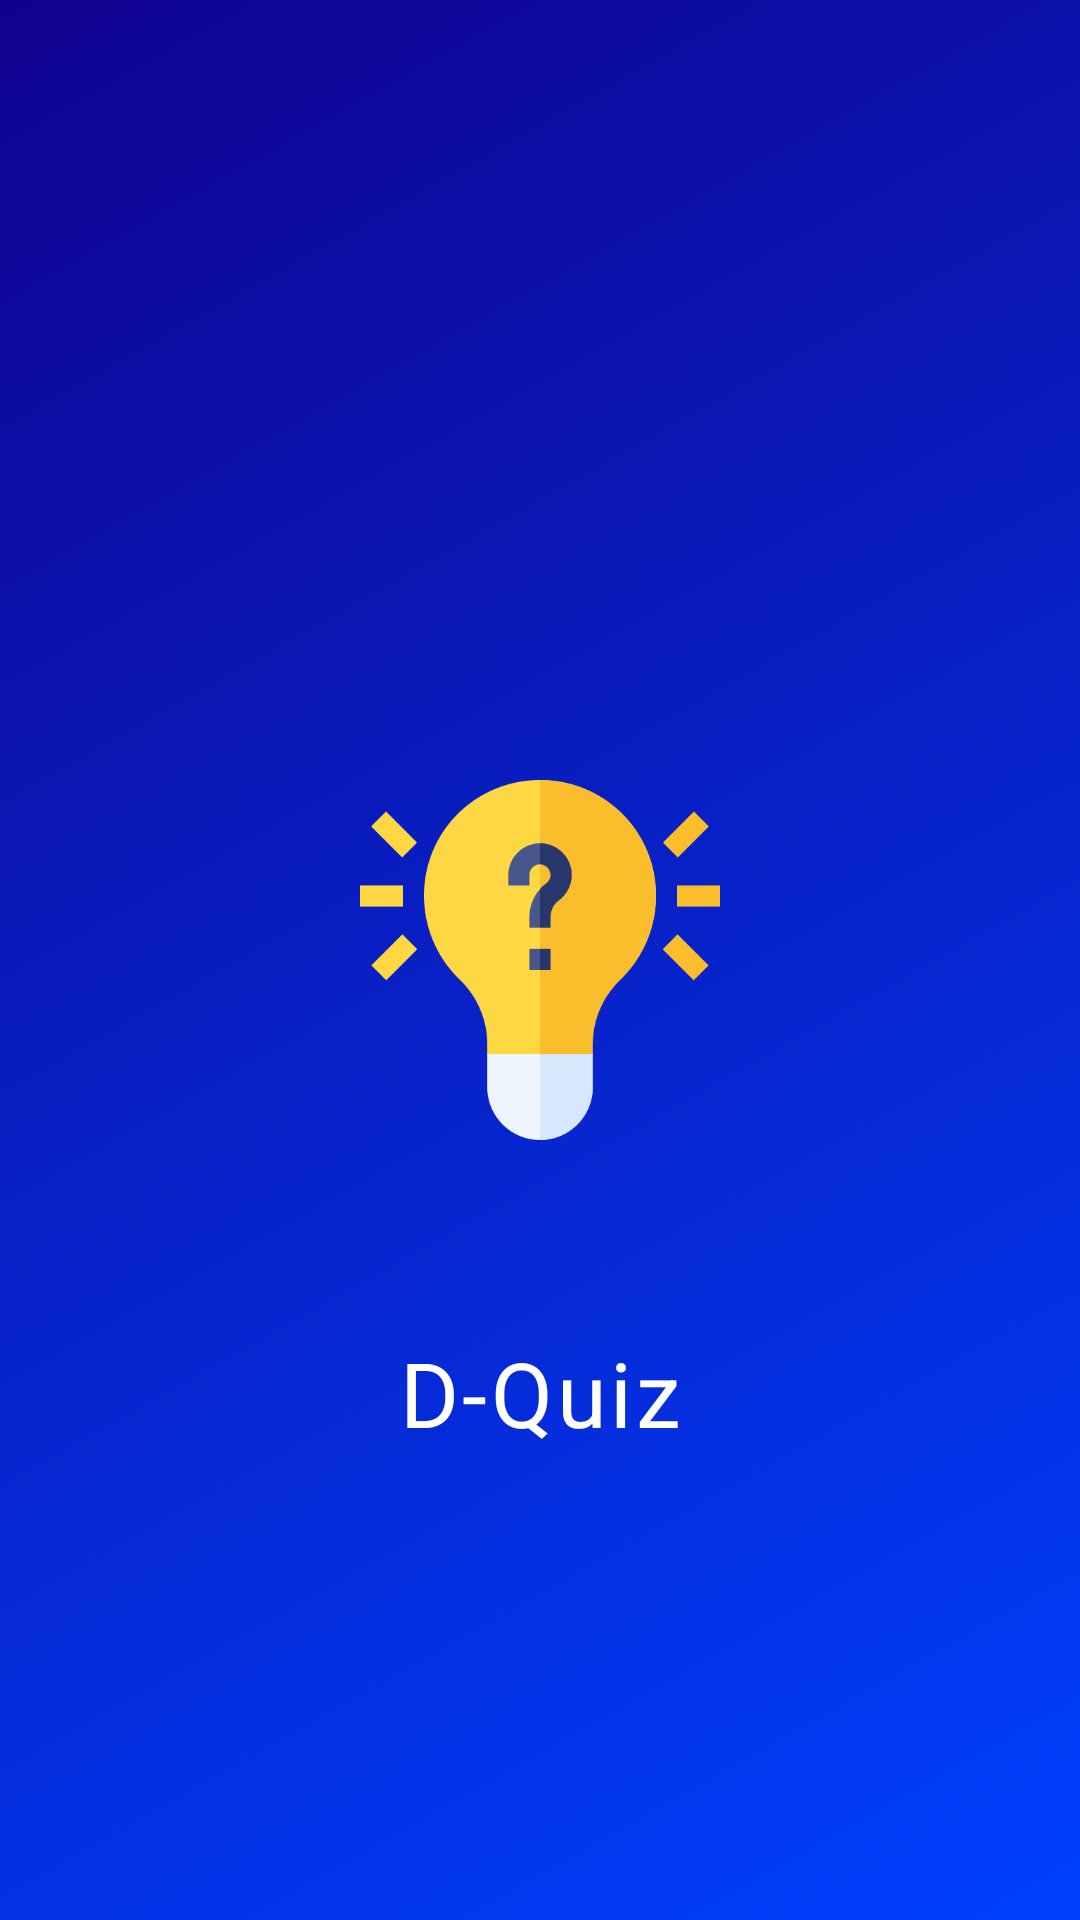

Where to tap for icons on this 1080*1920 app screen, as (x,y):
ideas: (540,960)
